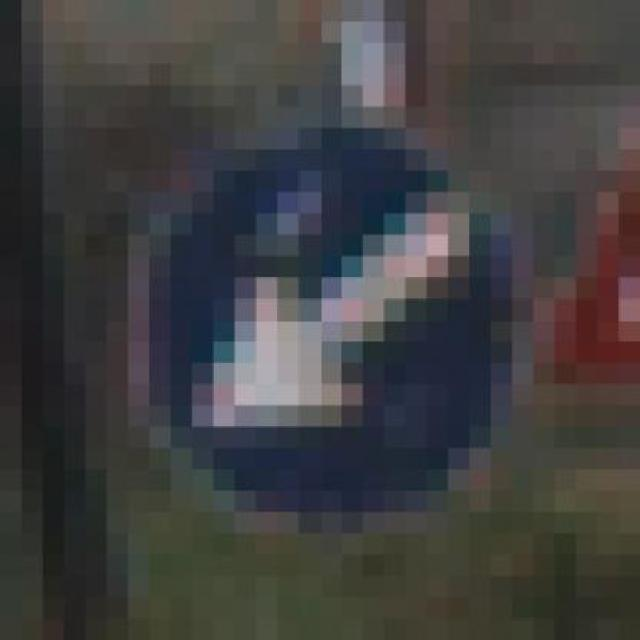Keep-Left: (107, 63, 555, 554)
